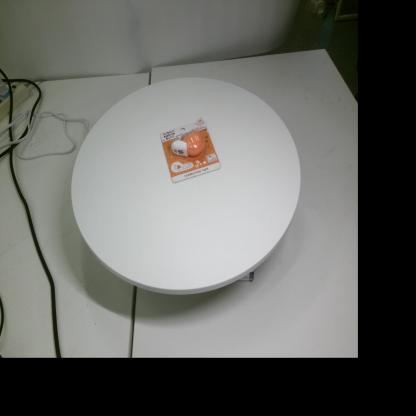Stationery: (160, 118, 221, 183)
